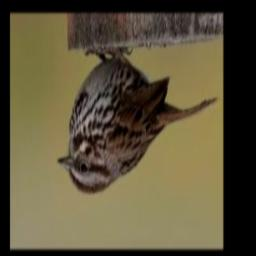Sparrow: (58, 46, 218, 194)
